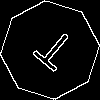T: (25, 25, 79, 80)
